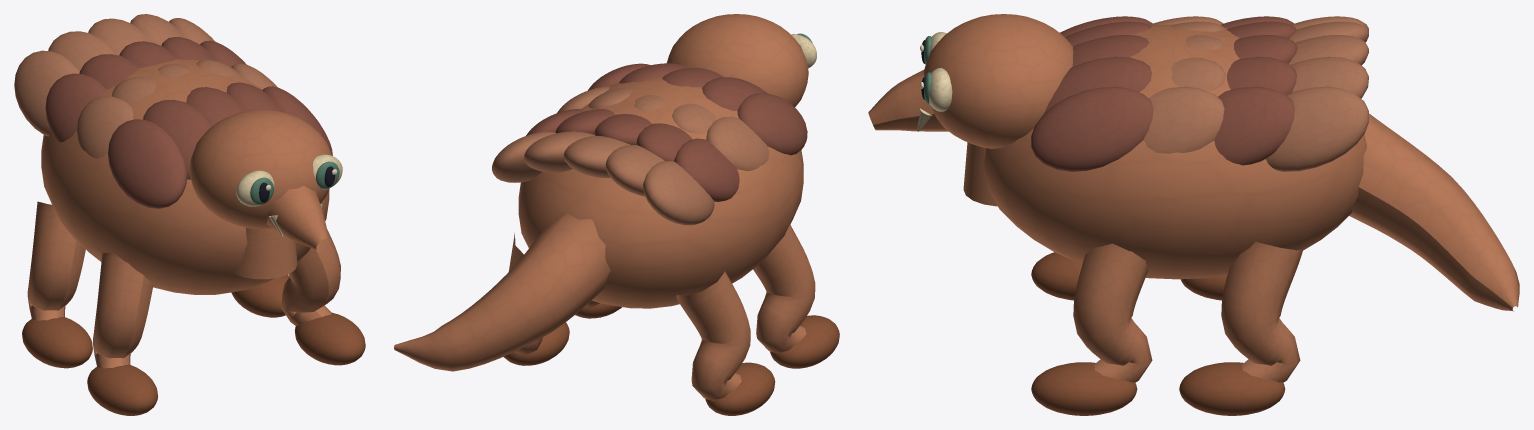
Rendered from rusk.glb.
The picture shows the model from 3 angles, left to right: view 1: azimuth 30°, elevation 25°; view 2: azimuth 150°, elevation 25°; view 3: azimuth 270°, elevation 25°; orthographic projection. The views are drawn at different scales.
Visible parts, largest first — view 1: Overlapping kiln scale (×20), Low hauler, Bent limb (×3), Cranium, Foot (×4), Long nose, Visible neck, Sclera (×2), Iris (×2); view 2: Overlapping kiln scale (×20), Low hauler, Armored tail, Bent limb (×3), Cranium, Foot (×4); view 3: Overlapping kiln scale (×14), Low hauler, Bent limb (×2), Armored tail, Cranium, Foot (×4), Long nose, Visible neck, Sclera.
Part boxes in pixels (x1=…): Overlapping kiln scale (×20): x1=14, y1=14, x2=332, y2=208; Low hauler: x1=41, y1=59, x2=329, y2=294; Bent limb (×3): x1=27, y1=201, x2=340, y2=368; Cranium: x1=189, y1=109, x2=331, y2=228; Foot (×4): x1=22, y1=274, x2=365, y2=415; Long nose: x1=266, y1=186, x2=329, y2=249; Visible neck: x1=234, y1=227, x2=297, y2=279; Sclera (×2): x1=236, y1=154, x2=342, y2=206; Iris (×2): x1=250, y1=161, x2=339, y2=204; Overlapping kiln scale (×20): x1=492, y1=63, x2=807, y2=225; Low hauler: x1=518, y1=77, x2=803, y2=308; Armored tail: x1=394, y1=213, x2=610, y2=371; Bent limb (×3): x1=508, y1=224, x2=815, y2=400; Cranium: x1=667, y1=14, x2=808, y2=106; Foot (×4): x1=503, y1=303, x2=839, y2=415; Overlapping kiln scale (×14): x1=1031, y1=21, x2=1368, y2=171; Low hauler: x1=983, y1=24, x2=1366, y2=279; Bent limb (×2): x1=1073, y1=241, x2=1302, y2=382; Armored tail: x1=1349, y1=113, x2=1519, y2=311; Cranium: x1=923, y1=14, x2=1073, y2=148; Foot (×4): x1=1031, y1=252, x2=1285, y2=415; Long nose: x1=868, y1=70, x2=948, y2=131; Visible neck: x1=963, y1=142, x2=998, y2=206; Sclera: x1=929, y1=68, x2=952, y2=111.
Size of the model in its own units: 1.06 by 1.13 by 2.03.
9 materials, 9 textured.
